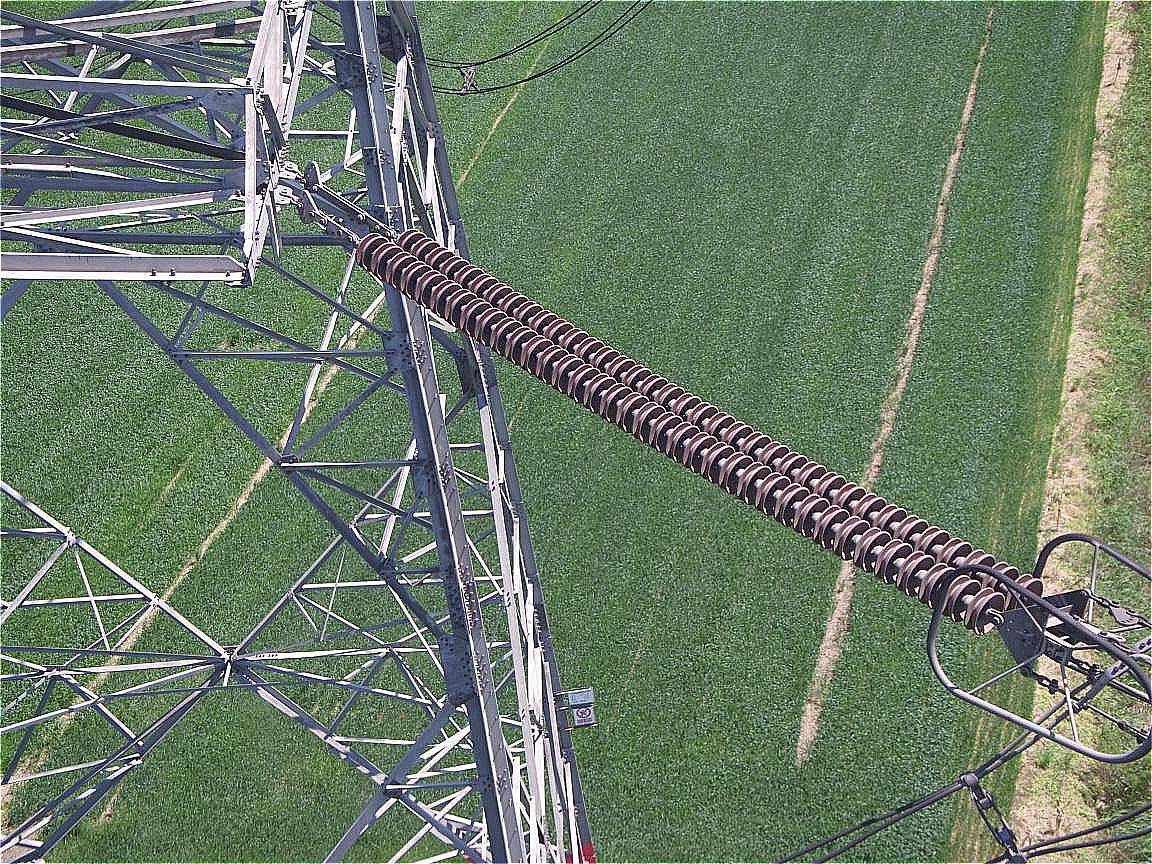insultor2: (356, 228, 1043, 634)
